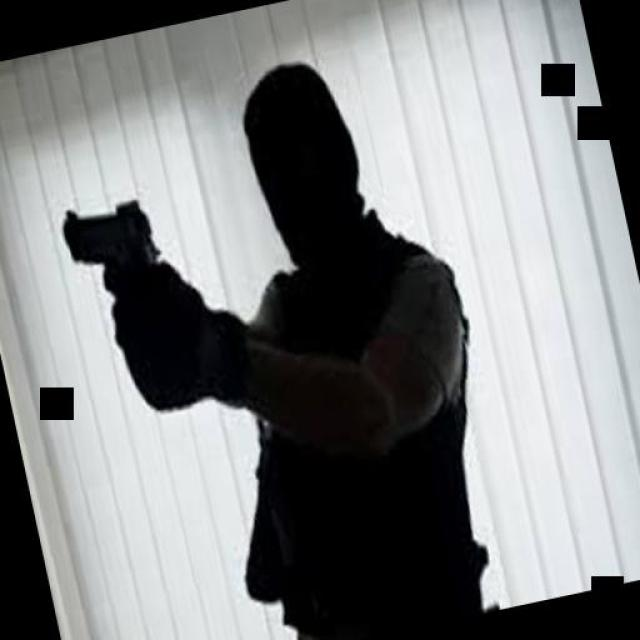gun: (46, 188, 182, 358)
